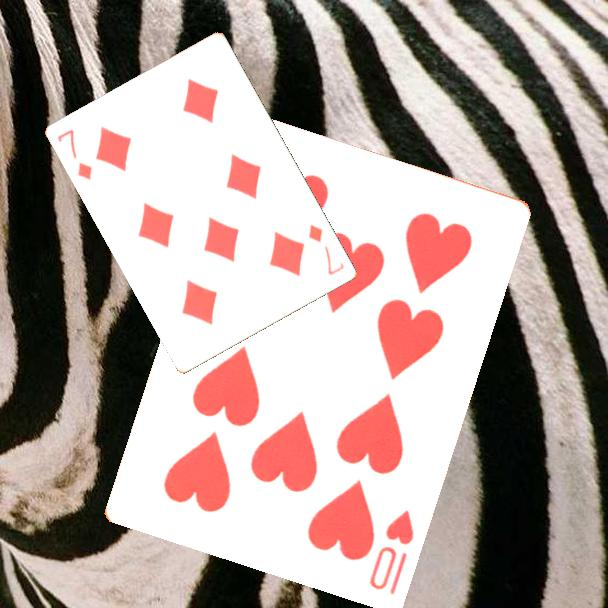d07: (305, 221, 348, 278), (54, 125, 96, 183)
h10: (365, 506, 417, 597)
